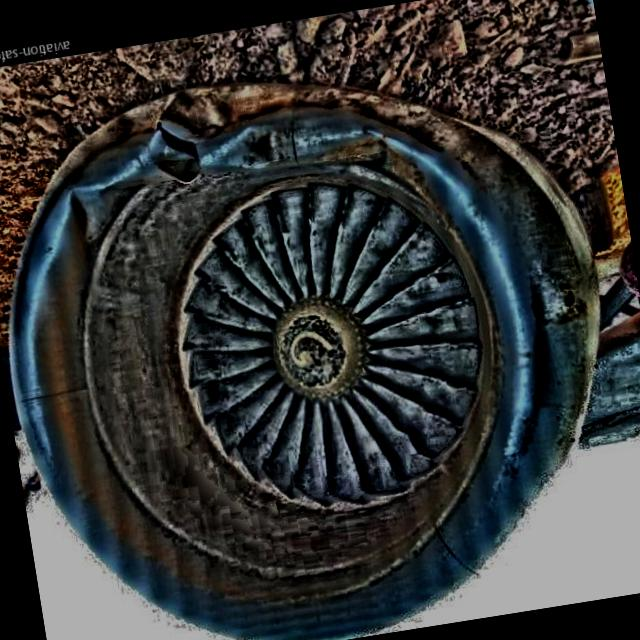crack: (153, 113, 207, 182)
dent: (196, 102, 385, 184), (61, 180, 118, 247)
